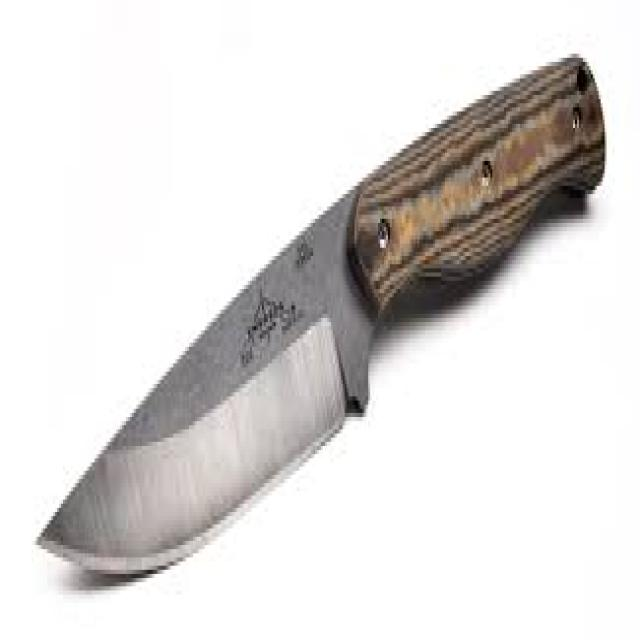knife: (24, 32, 617, 592)
